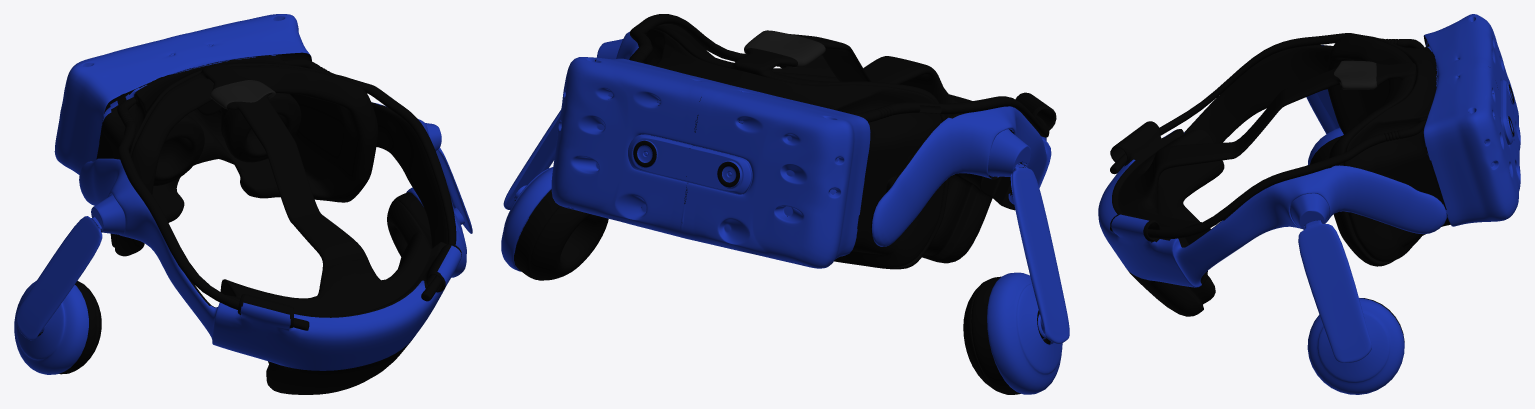
Rendered from VR_Headset.glb.
The picture shows the model from 3 angles, left to right: view 1: azimuth 30°, elevation 25°; view 2: azimuth 150°, elevation 25°; view 3: azimuth 270°, elevation 25°; orthographic projection. The views are drawn at different scales.
Parts seen in each view (by area): view 1: 立方体.001_立方体.002; view 2: 立方体.001_立方体.002; view 3: 立方体.001_立方体.002.
Part boxes in pixels (x1,y1,x2,y2): 立方体.001_立方体.002: (14,14,472,394); 立方体.001_立方体.002: (501,14,1069,394); 立方体.001_立方体.002: (1098,14,1520,394).
Bounding box in the file's own units: 12.92 × 6.73 × 10.86.
